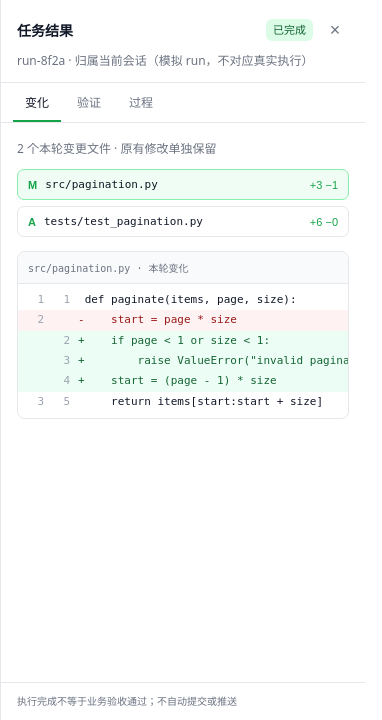
TaskInspector 变化页签 › 点击第二个文件切换到对应 diff
Click the button "A tests/test_pagination.py +6 −0": (183, 222) [17,206,349,237]
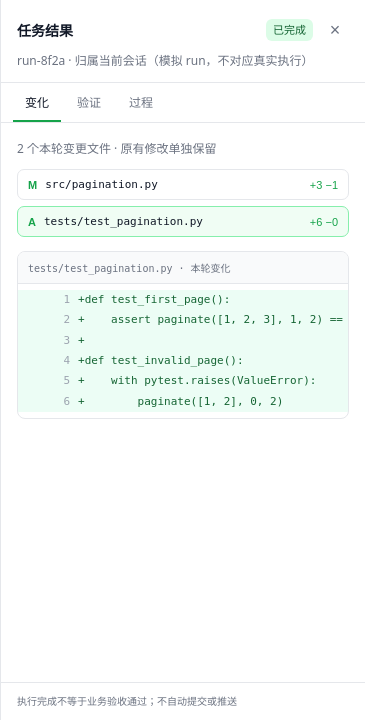
Expected: the text "tests/test_pagination.py · 本轮变化" is shown, [18,252,348,284]
